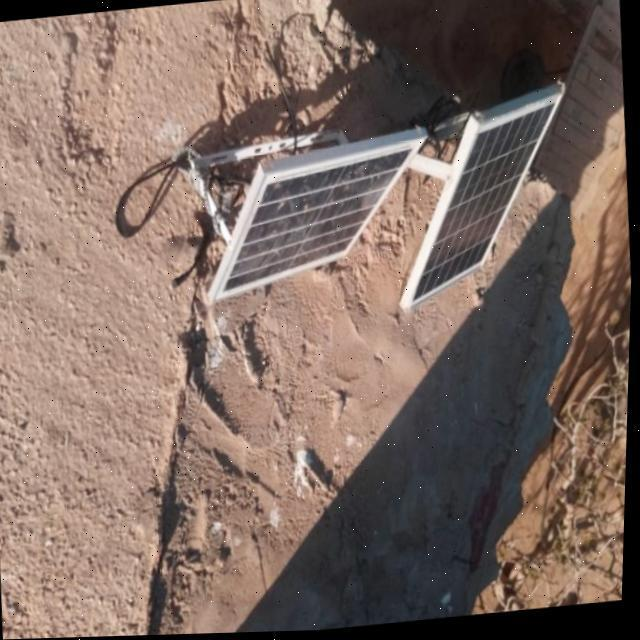Normal Solar Panel: (396, 98, 577, 314)
